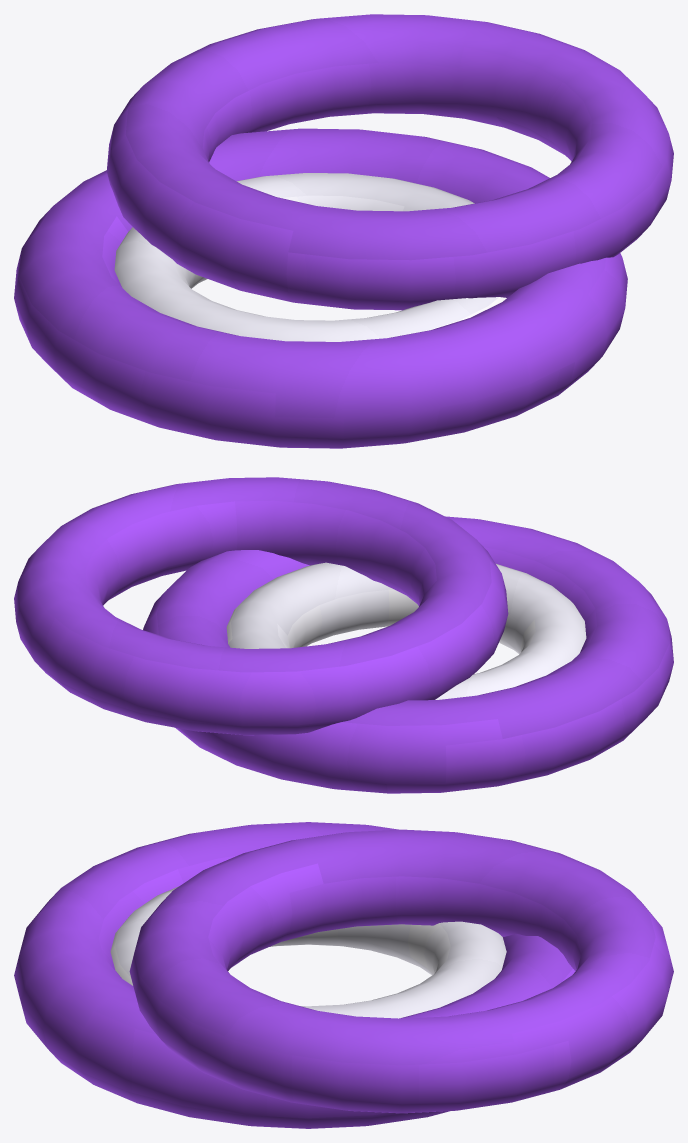
The model's file is onion-half.glb.
3 views of the same model, one above another, from view 1: azimuth 30°, elevation 25°; view 2: azimuth 150°, elevation 25°; view 3: azimuth 270°, elevation 25° (orthographic). The views are drawn at different scales.
Parts seen in each view (by area): view 1: OnionRing2, OnionRing1, OnionRingIn1; view 2: OnionRing2, OnionRing1, OnionRingIn1; view 3: OnionRing2, OnionRing1, OnionRingIn1.
Part boxes in pixels (left/top/right/bottom): OnionRing2: left=106, top=14, right=673, bottom=310; OnionRing1: left=14, top=128, right=627, bottom=448; OnionRingIn1: left=114, top=173, right=506, bottom=341; OnionRing2: left=14, top=477, right=508, bottom=735; OnionRing1: left=143, top=516, right=673, bottom=793; OnionRingIn1: left=226, top=562, right=586, bottom=699; OnionRing2: left=129, top=829, right=673, bottom=1113; OnionRing1: left=14, top=822, right=575, bottom=1128; OnionRingIn1: left=110, top=886, right=506, bottom=1018.
Size of the model in its own units: 0.374 by 0.0876 by 0.354.
2 materials, 2 textured.
